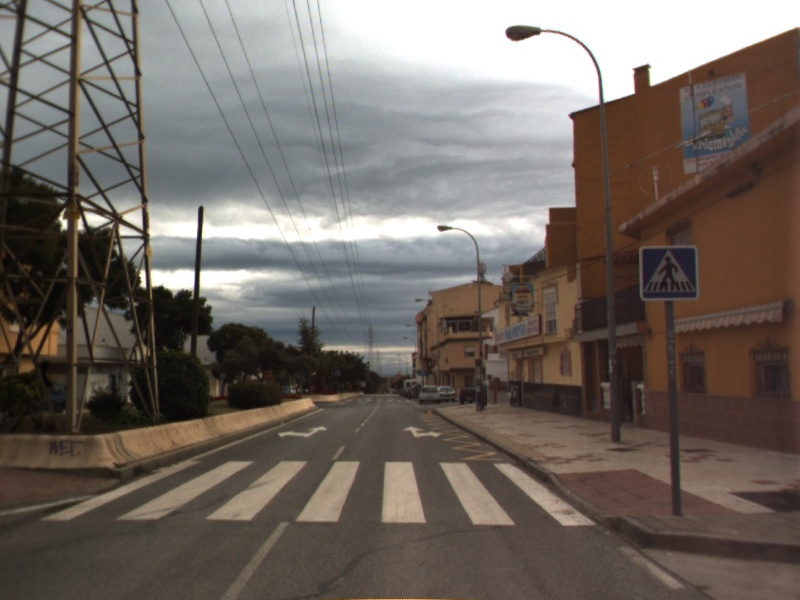STRAIGHT_LEFT: (276, 424, 330, 440)
STRAIGHT_RIGHT: (400, 423, 443, 440)
